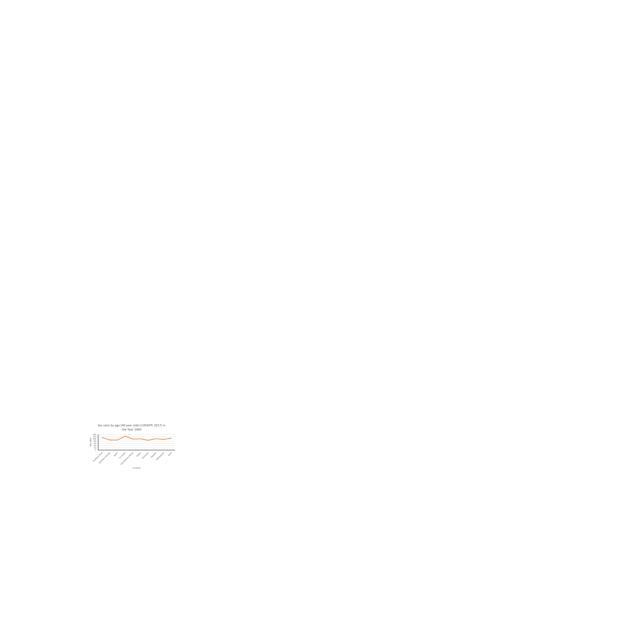Graph: (87, 422, 176, 470)
